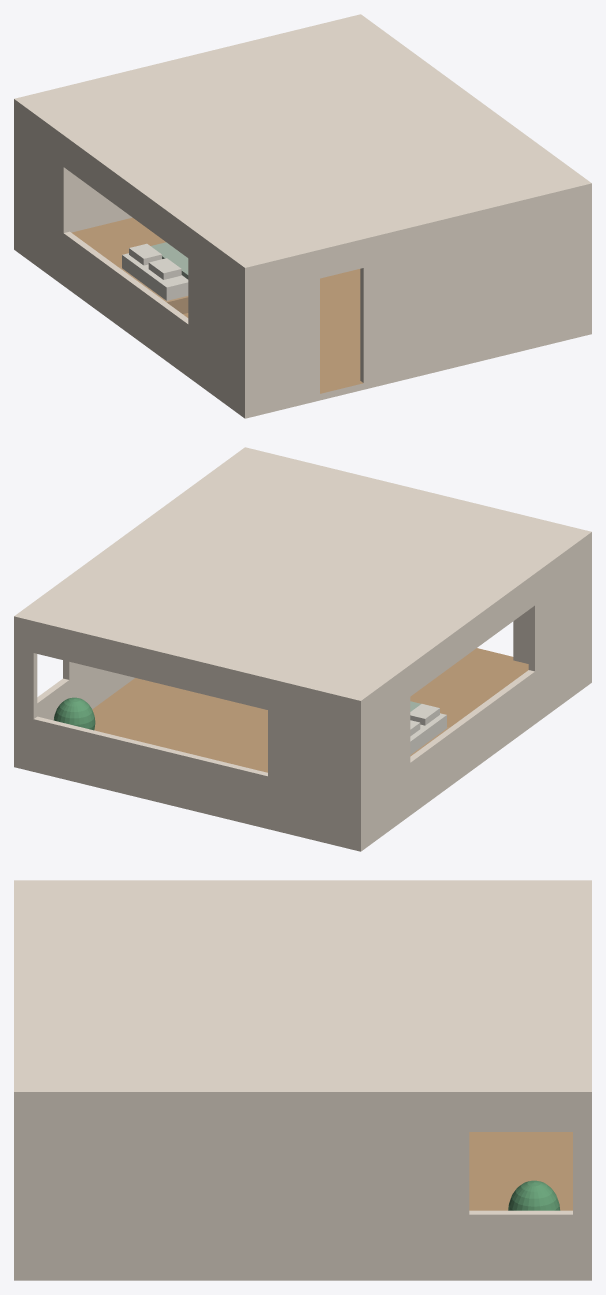
File: bedroom_parametric.glb
3 views of the same model, one above another, from view 1: azimuth 30°, elevation 25°; view 2: azimuth 150°, elevation 25°; view 3: azimuth 270°, elevation 25° (orthographic). The views are drawn at different scales.
Parts seen in each view (by area): view 1: bedroom_0/0.exterior, bedroom_0/0.floor, bedroom_0/0.wall, KA_PARAM_mattress, KA_PARAM_blanket; view 2: bedroom_0/0.exterior, bedroom_0/0.floor, bedroom_0/0.wall, KA_PARAM_plant_leaf_1, KA_PARAM_mattress; view 3: bedroom_0/0.exterior, bedroom_0/0.floor, KA_PARAM_plant_leaf_1, bedroom_0/0.wall.
Part boxes in pixels (<box>): bedroom_0/0.exterior: <box>14,14,591,418</box>; bedroom_0/0.floor: <box>71,217,363,393</box>; bedroom_0/0.wall: <box>63,167,363,382</box>; KA_PARAM_mattress: <box>122,253,188,300</box>; KA_PARAM_blanket: <box>151,242,188,279</box>; bedroom_0/0.exterior: <box>14,447,591,851</box>; bedroom_0/0.floor: <box>92,648,528,772</box>; bedroom_0/0.wall: <box>33,605,534,776</box>; KA_PARAM_plant_leaf_1: <box>53,697,95,730</box>; KA_PARAM_mattress: <box>410,713,446,754</box>; bedroom_0/0.exterior: <box>14,880,591,1280</box>; bedroom_0/0.floor: <box>469,1132,572,1210</box>; KA_PARAM_plant_leaf_1: <box>508,1180,560,1210</box>; bedroom_0/0.wall: <box>469,1210,572,1214</box>.
Bounding box in the file's own units: 6.5 × 2.7 × 7.5.
